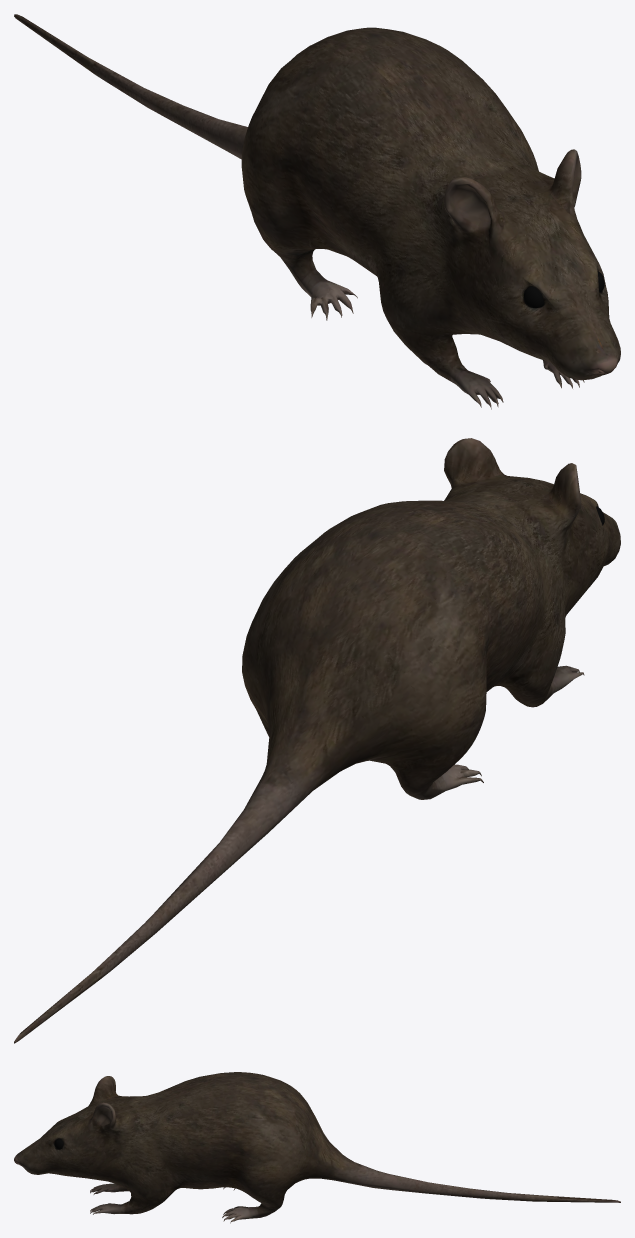
Rendered from rat.glb.
3 renders of one model, top to bottom at view 1: azimuth 30°, elevation 25°; view 2: azimuth 150°, elevation 25°; view 3: azimuth 270°, elevation 25°, orthographic. The views are drawn at different scales.
Visible parts, largest first — view 1: street_rat; view 2: street_rat; view 3: street_rat.
Part boxes in pixels (left/top/right/bottom): street_rat: left=14, top=14, right=620, bottom=409; street_rat: left=14, top=438, right=620, bottom=1043; street_rat: left=14, top=1072, right=620, bottom=1223.
Size of the model in its own units: 0.0319 by 0.0338 by 0.1483.
Materials: 1 (1 with a texture image).
